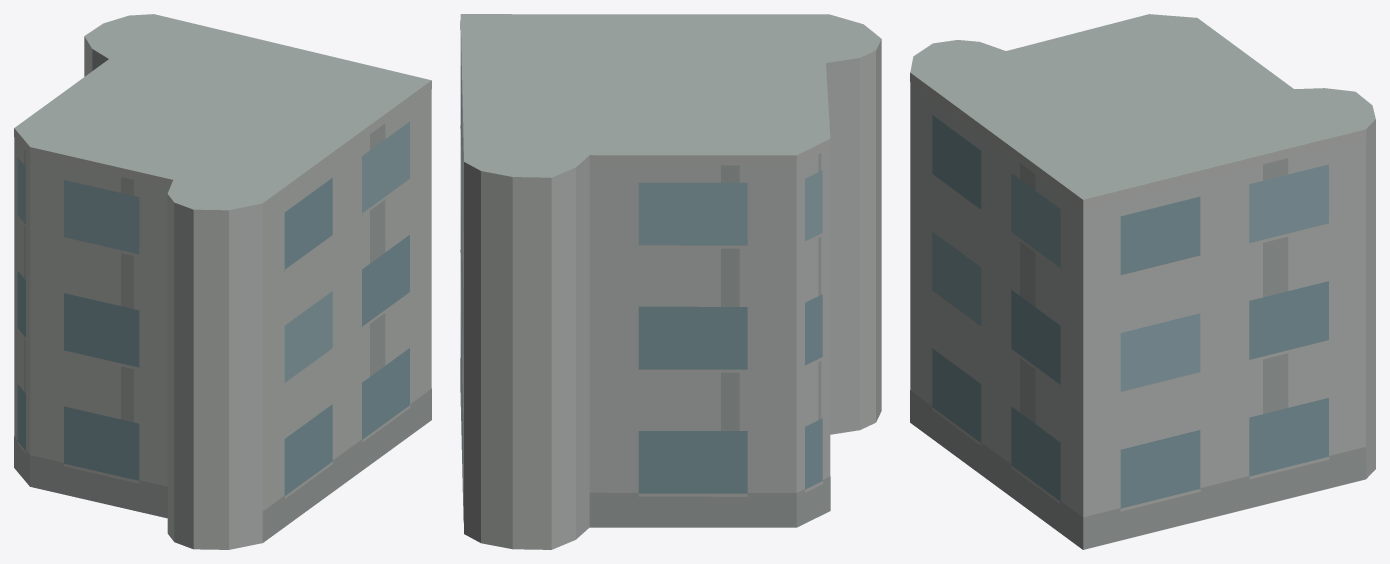
File: survey-upis-32528238.glb
3 views of the same model, side by side, from view 1: azimuth 30°, elevation 25°; view 2: azimuth 150°, elevation 25°; view 3: azimuth 270°, elevation 25° (orthographic). The views are drawn at different scales.
Visible parts, largest first — view 1: survey-upis-32528238.tmp; view 2: survey-upis-32528238.tmp; view 3: survey-upis-32528238.tmp.
Boxes of the visible parts, <box> form: survey-upis-32528238.tmp: <box>14,14,431,549</box>; survey-upis-32528238.tmp: <box>460,14,881,549</box>; survey-upis-32528238.tmp: <box>910,14,1375,549</box>.
Bounding box in the file's own units: 10.43 × 9.15 × 11.04.
